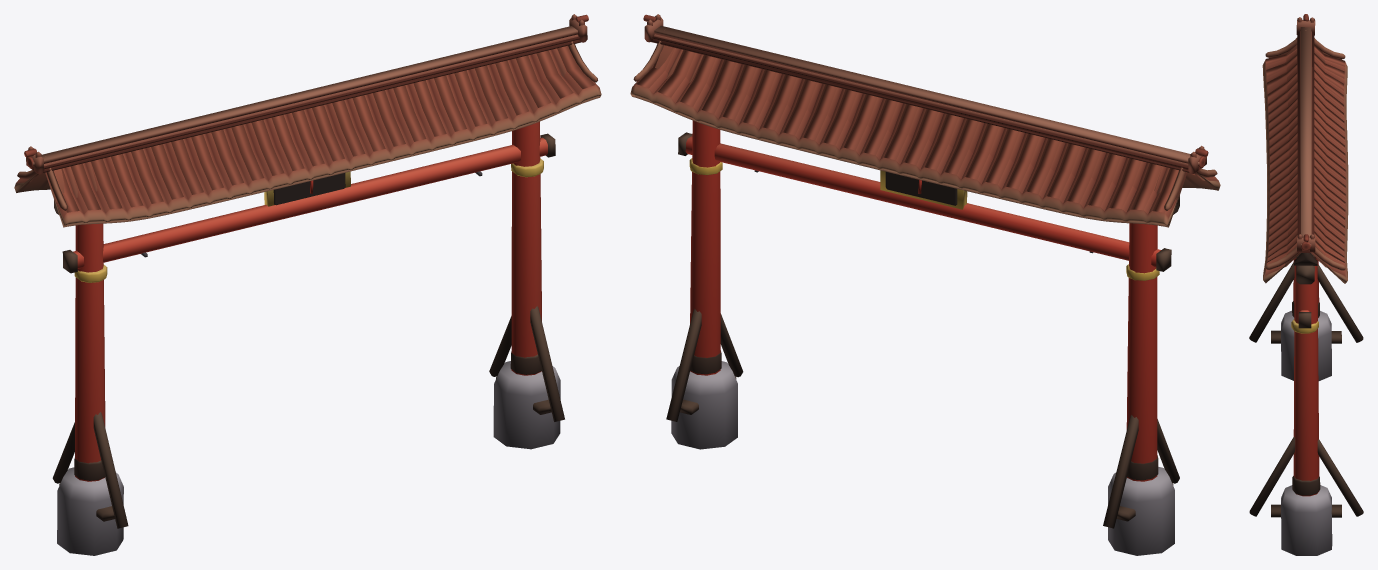
File: zv-maple-gate.glb
3 renders of one model, left to right at view 1: azimuth 30°, elevation 25°; view 2: azimuth 150°, elevation 25°; view 3: azimuth 270°, elevation 25°, orthographic. The views are drawn at different scales.
Parts seen in each view (by area): view 1: gate; view 2: gate; view 3: gate.
Part boxes in pixels (x1,y1,x2,y2): gate: (14, 14, 601, 555); gate: (630, 14, 1220, 555); gate: (1249, 14, 1363, 555).
Bounding box in the file's own units: 4.63 × 3.21 × 0.9983.
